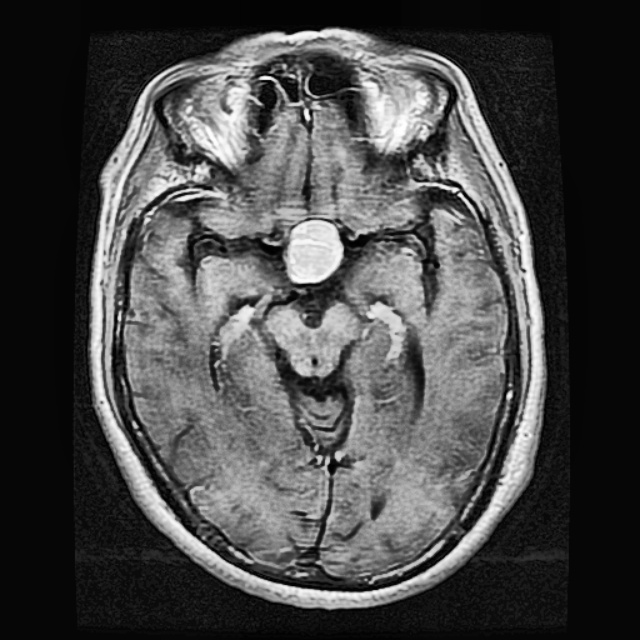Pituitary: (287, 217, 345, 283)
